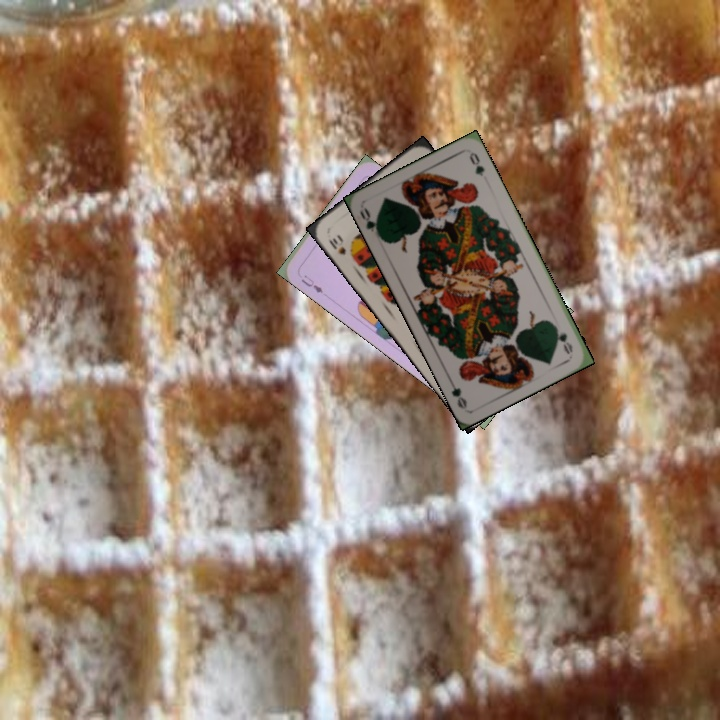EU: (297, 270, 326, 296)
GO: (356, 204, 384, 241), (548, 320, 576, 357)
S10: (324, 234, 349, 257)
